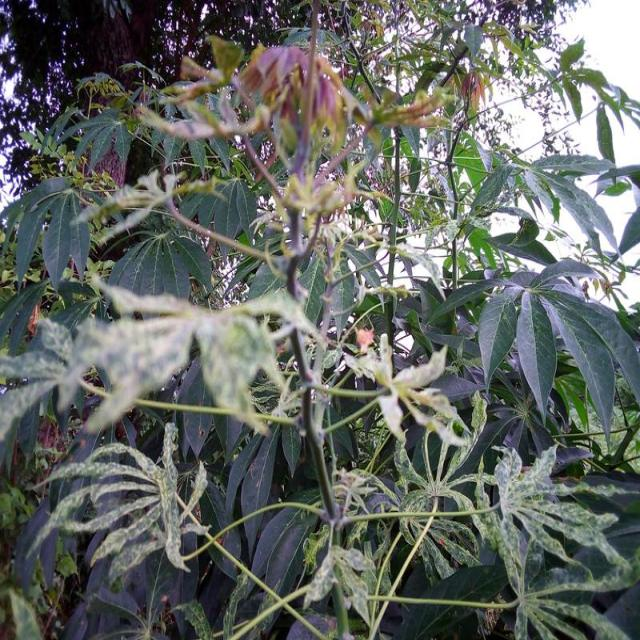cassava leaf: (3, 20, 639, 637)
